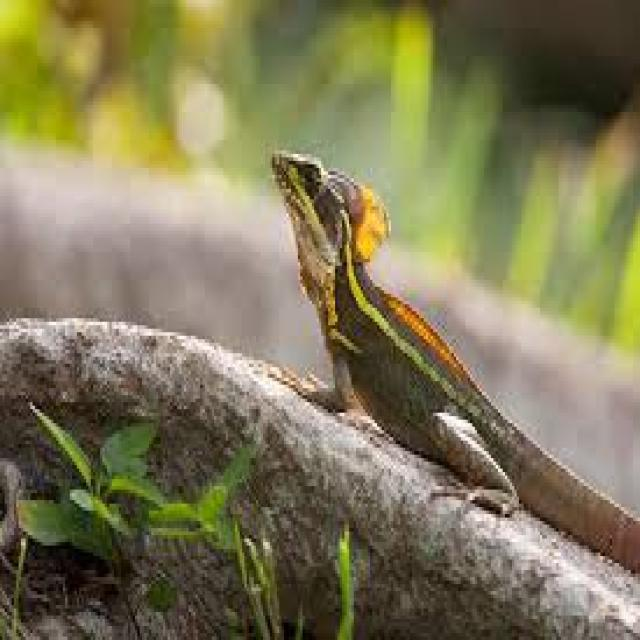Lizard: (264, 138, 640, 563)
